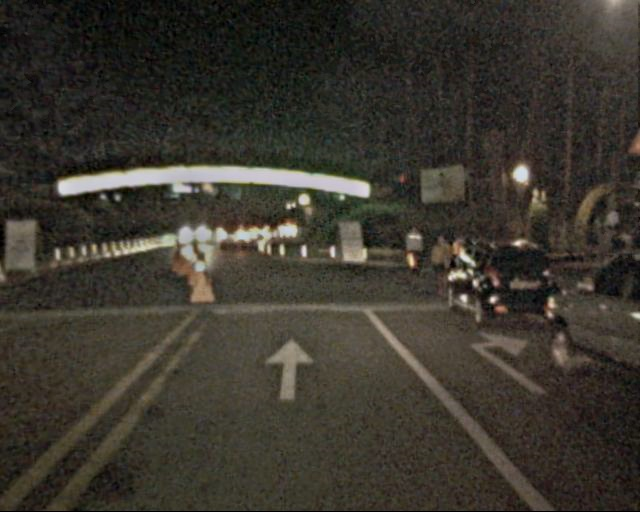person: (428, 236, 454, 299), (403, 223, 426, 279)
